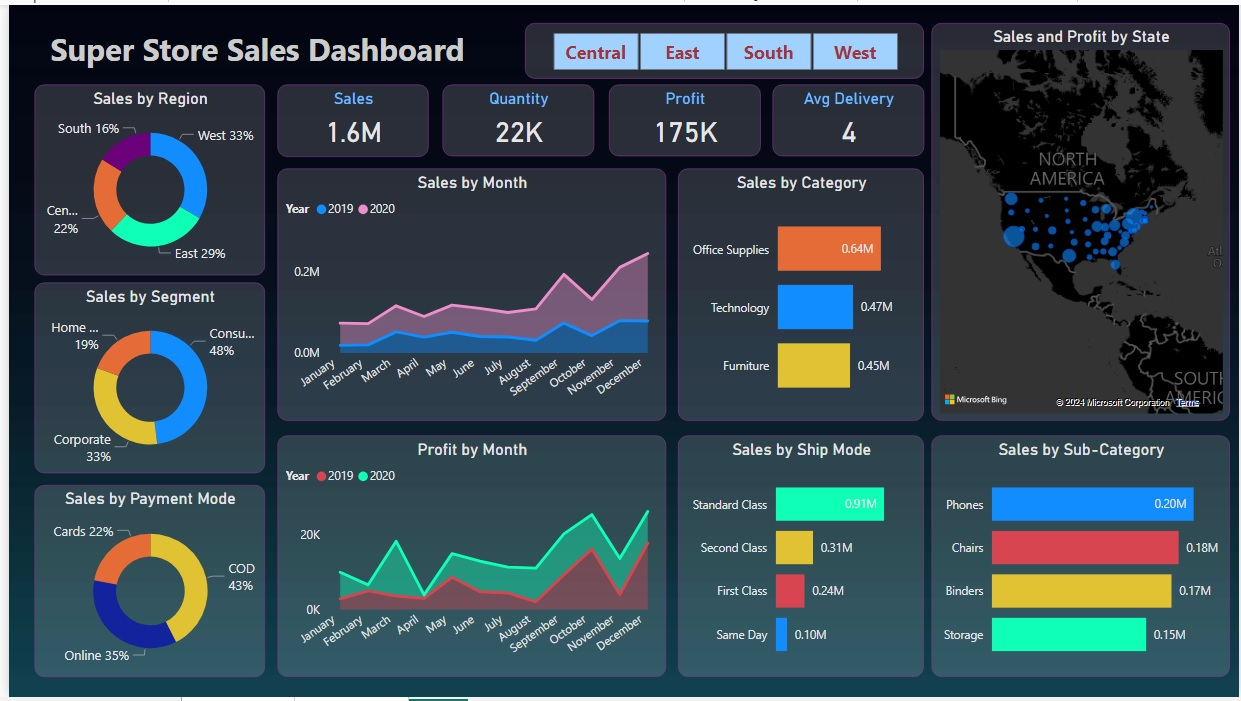

The dashboard page shown, as its layout file describes it:
{"tool":"powerbi","page":{"name":"Page 1","canvas":[1280,720],"ordinal":0},"visuals":[{"type":"clusteredBarChart","title":"Sales by Category","fields":{"Category":["SuperStore_Sales_Dataset.Category"],"Y":["Sum(SuperStore_Sales_Dataset.Sales)"]},"box":[696.6,170.2,256.1,262.4],"z":0},{"type":"clusteredBarChart","title":"Sales by Sub-Category","fields":{"Y":["Sum(SuperStore_Sales_Dataset.Sales)"],"Category":["SuperStore_Sales_Dataset.Sub-Category"]},"box":[960.5,448.2,310.8,251.5],"z":1000},{"type":"clusteredBarChart","title":"Sales by Ship Mode","fields":{"Y":["Sum(SuperStore_Sales_Dataset.Sales)"],"Category":["SuperStore_Sales_Dataset.Ship Mode"]},"box":[696.6,448.2,256.1,251.5],"z":2000},{"type":"stackedAreaChart","title":"Sales by Month","fields":{"Y":["Sum(SuperStore_Sales_Dataset.Sales)"],"Category":["SuperStore_Sales_Dataset.Order Date.Variation.Date Hierarchy.Month","SuperStore_Sales_Dataset.Order Date.Variation.Date Hierarchy.Day"],"Series":["SuperStore_Sales_Dataset.Order Date.Variation.Date Hierarchy.Year"]},"box":[279.6,170.2,404.5,262.4],"z":3000},{"type":"stackedAreaChart","title":"Profit by Month","fields":{"Category":["SuperStore_Sales_Dataset.Order Date.Variation.Date Hierarchy.Month","SuperStore_Sales_Dataset.Order Date.Variation.Date Hierarchy.Day"],"Series":["SuperStore_Sales_Dataset.Order Date.Variation.Date Hierarchy.Year"],"Y":["Sum(SuperStore_Sales_Dataset.Profit)"]},"box":[279.6,448.2,404.5,251.5],"z":4000},{"type":"map","title":"Sales and Profit by State","fields":{"Category":["SuperStore_Sales_Dataset.State"],"Size":["Sum(SuperStore_Sales_Dataset.Sales)"]},"box":[960.5,18.7,310.8,413.9],"z":5000},{"type":"donutChart","title":"Sales by Segment","fields":{"Category":["SuperStore_Sales_Dataset.Segment"],"Y":["Sum(SuperStore_Sales_Dataset.Sales)"]},"box":[26.6,288.9,240,198.4],"z":6000},{"type":"donutChart","title":"Sales by Payment Mode","fields":{"Category":["SuperStore_Sales_Dataset.Payment Mode"],"Y":["Sum(SuperStore_Sales_Dataset.Sales)"]},"box":[26.6,499.8,240,199.9],"z":7000},{"type":"slicer","fields":{"Values":["SuperStore_Sales_Dataset.Region"]},"box":[537.3,18.7,415.4,57.8],"z":8000},{"type":"textbox","box":[0,18.7,517,57.8],"z":9000},{"type":"card","title":"Sales","fields":{"Values":["Sum(SuperStore_Sales_Dataset.Sales)"]},"box":[279.6,82.8,157,75],"z":10000},{"type":"card","title":"Quantity","fields":{"Values":["Sum(SuperStore_Sales_Dataset.Quantity)"]},"box":[452,82.8,157.7,75],"z":11000},{"type":"card","title":"Profit","fields":{"Values":["Sum(SuperStore_Sales_Dataset.Profit)"]},"box":[625,82.8,157.7,75],"z":12000},{"type":"card","title":"Avg Delivery","fields":{"Values":["Avg(SuperStore_Sales_Dataset.Avg Delivery)"]},"box":[795,82.8,157.7,75],"z":13000},{"type":"donutChart","title":"Sales by Region","fields":{"Category":["SuperStore_Sales_Dataset.Region"],"Y":["Sum(SuperStore_Sales_Dataset.Sales)"]},"box":[26.6,82.8,240,198.4],"z":13001}]}

Visuals, with their boxes in screenshot pixels (x1, y1, x2, y2), scaled from the page's 1280x720 canvas onto the 1241x701 screenshot:
"Sales by Category" clusteredBarChart: bbox(675, 166, 924, 421)
"Sales by Sub-Category" clusteredBarChart: bbox(931, 436, 1233, 681)
"Sales by Ship Mode" clusteredBarChart: bbox(675, 436, 924, 681)
"Sales by Month" stackedAreaChart: bbox(271, 166, 663, 421)
"Profit by Month" stackedAreaChart: bbox(271, 436, 663, 681)
"Sales and Profit by State" map: bbox(931, 18, 1233, 421)
"Sales by Segment" donutChart: bbox(26, 281, 258, 474)
"Sales by Payment Mode" donutChart: bbox(26, 487, 258, 681)
slicer - SuperStore_Sales_Dataset.Region: bbox(521, 18, 924, 74)
textbox: bbox(0, 18, 501, 74)
"Sales" card: bbox(271, 81, 423, 154)
"Quantity" card: bbox(438, 81, 591, 154)
"Profit" card: bbox(606, 81, 759, 154)
"Avg Delivery" card: bbox(771, 81, 924, 154)
"Sales by Region" donutChart: bbox(26, 81, 258, 274)
